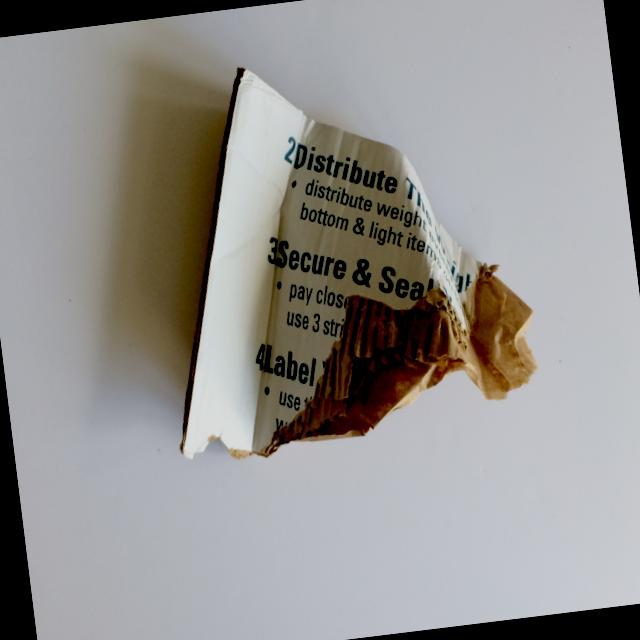Cardboard: (119, 22, 560, 510)
